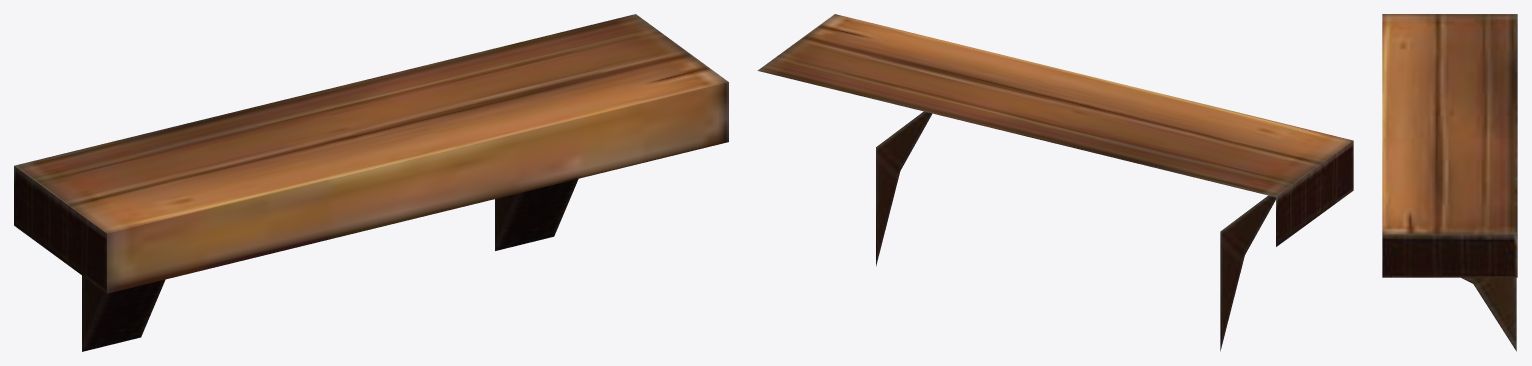
The model's file is SM_shelf_00.gltf.
The picture shows the model from 3 angles, left to right: view 1: azimuth 30°, elevation 25°; view 2: azimuth 150°, elevation 25°; view 3: azimuth 270°, elevation 25°; orthographic projection. The views are drawn at different scales.
Parts seen in each view (by area): view 1: SM_shelf_00; view 2: SM_shelf_00; view 3: SM_shelf_00.
Part boxes in pixels (x1,y1,x2,y2): SM_shelf_00: [14, 14, 728, 351]; SM_shelf_00: [757, 14, 1353, 351]; SM_shelf_00: [1382, 14, 1517, 351].
Bounding box in the file's own units: 0.7331 × 0.2278 × 0.19.
1 material, 1 textured.
